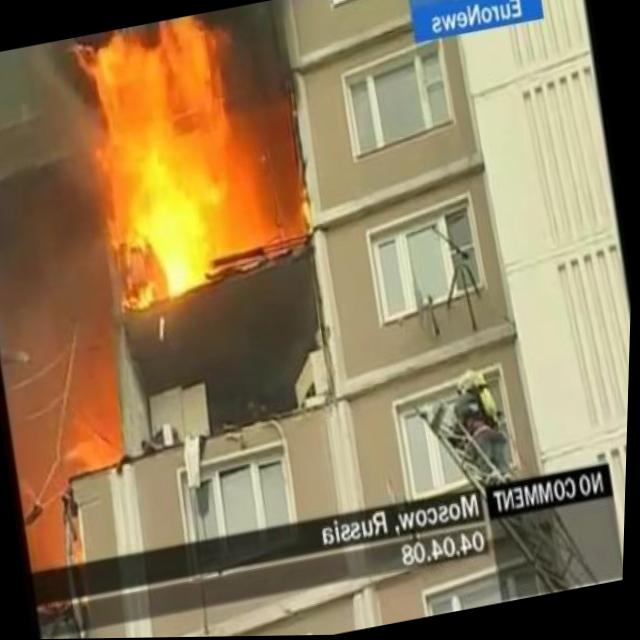fire: (70, 3, 306, 317)
